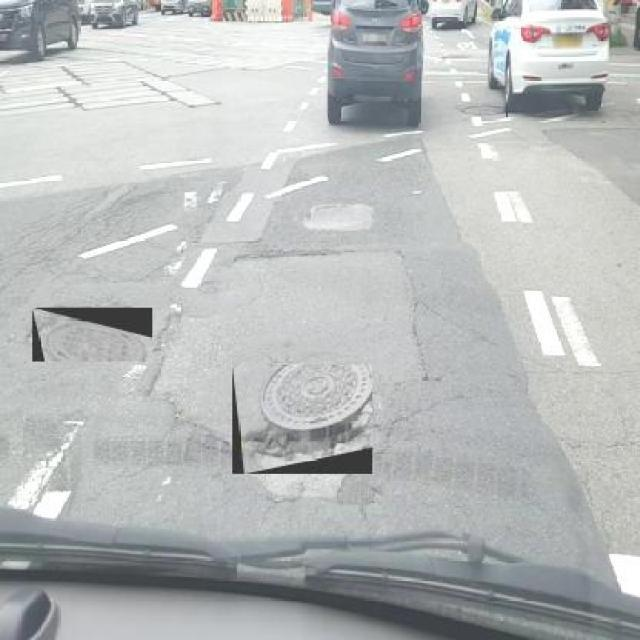Manhole: (232, 364, 372, 474), (32, 308, 152, 362), (462, 99, 508, 118)
Pothole: (260, 477, 390, 502), (225, 248, 342, 273)
